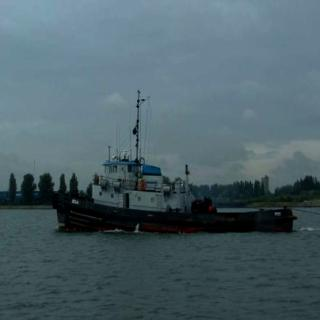Tug Boat: (56, 93, 281, 231)
